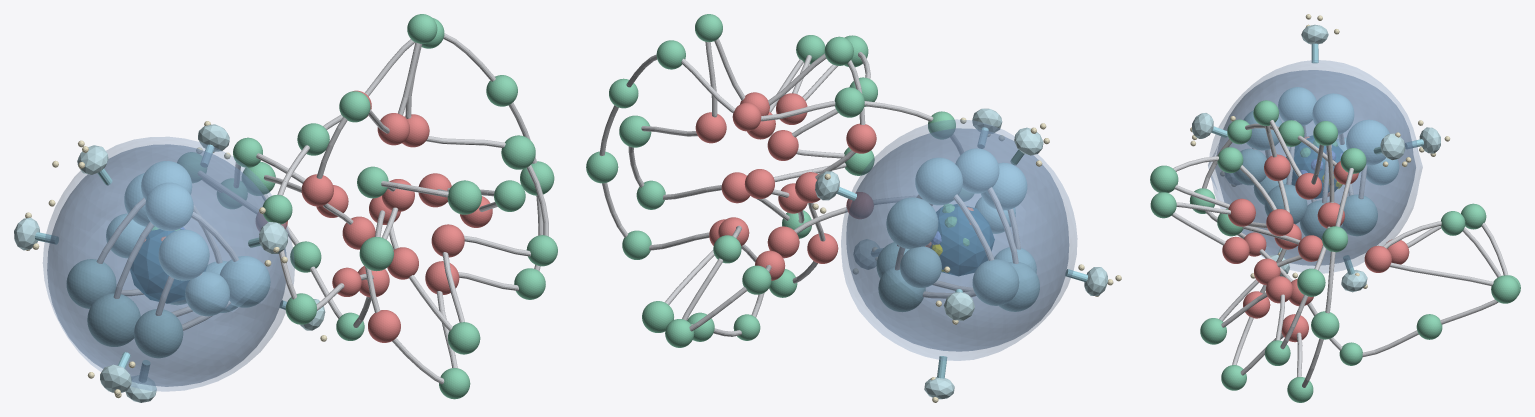
The model's file is docking_proteina_1_40aa_x_virus_ficticio_b_8280297.glb.
3 views of the same model, side by side, from view 1: azimuth 30°, elevation 25°; view 2: azimuth 150°, elevation 25°; view 3: azimuth 270°, elevation 25° (orthographic). The views are drawn at different scales.
Visible parts, largest first — view 1: geometry_0, geometry_1, geometry_137, geometry_2, geometry_133, geometry_135, geometry_134, geometry_136, geometry_140, geometry_132, geometry_139, geometry_706 (+43 smaller); view 2: geometry_0, geometry_1, geometry_2, geometry_142, geometry_139, geometry_140, geometry_136, geometry_143, geometry_141, geometry_133, geometry_137, geometry_726 (+41 smaller); view 3: geometry_0, geometry_1, geometry_142, geometry_139, geometry_141, geometry_136, geometry_2, geometry_135, geometry_132, geometry_143, geometry_715, geometry_737 (+41 smaller).
Boxes of the visible parts, x1,y1,x2,y2 form: geometry_0: [43, 137, 294, 391]; geometry_1: [47, 144, 286, 386]; geometry_137: [87, 293, 140, 346]; geometry_2: [130, 229, 206, 303]; geometry_133: [158, 229, 209, 280]; geometry_135: [220, 256, 270, 307]; geometry_134: [134, 309, 183, 358]; geometry_136: [145, 182, 193, 230]; geometry_140: [66, 259, 116, 308]; geometry_132: [185, 271, 229, 316]; geometry_139: [141, 161, 192, 199]; geometry_706: [447, 180, 481, 214]; geometry_0: [841, 119, 1077, 360]; geometry_1: [846, 128, 1069, 351]; geometry_2: [930, 204, 994, 276]; geometry_142: [886, 197, 938, 249]; geometry_139: [915, 157, 962, 205]; geometry_140: [972, 259, 1019, 305]; geometry_136: [955, 148, 999, 193]; geometry_143: [900, 246, 941, 287]; geometry_141: [878, 266, 925, 311]; geometry_133: [981, 162, 1027, 210]; geometry_137: [999, 262, 1039, 311]; geometry_726: [586, 151, 618, 183]; geometry_0: [1208, 60, 1422, 273]; geometry_1: [1215, 70, 1415, 265]; geometry_142: [1346, 119, 1389, 165]; geometry_139: [1312, 93, 1354, 134]; geometry_141: [1339, 194, 1377, 236]; geometry_136: [1278, 87, 1316, 125]; geometry_2: [1286, 135, 1343, 199]; geometry_135: [1264, 184, 1307, 224]; geometry_132: [1233, 148, 1266, 185]; geometry_143: [1366, 158, 1399, 185]; geometry_715: [1297, 268, 1325, 296]; geometry_737: [1491, 275, 1519, 303].
Size of the model in its own units: 22.49 by 13.96 by 16.95.
